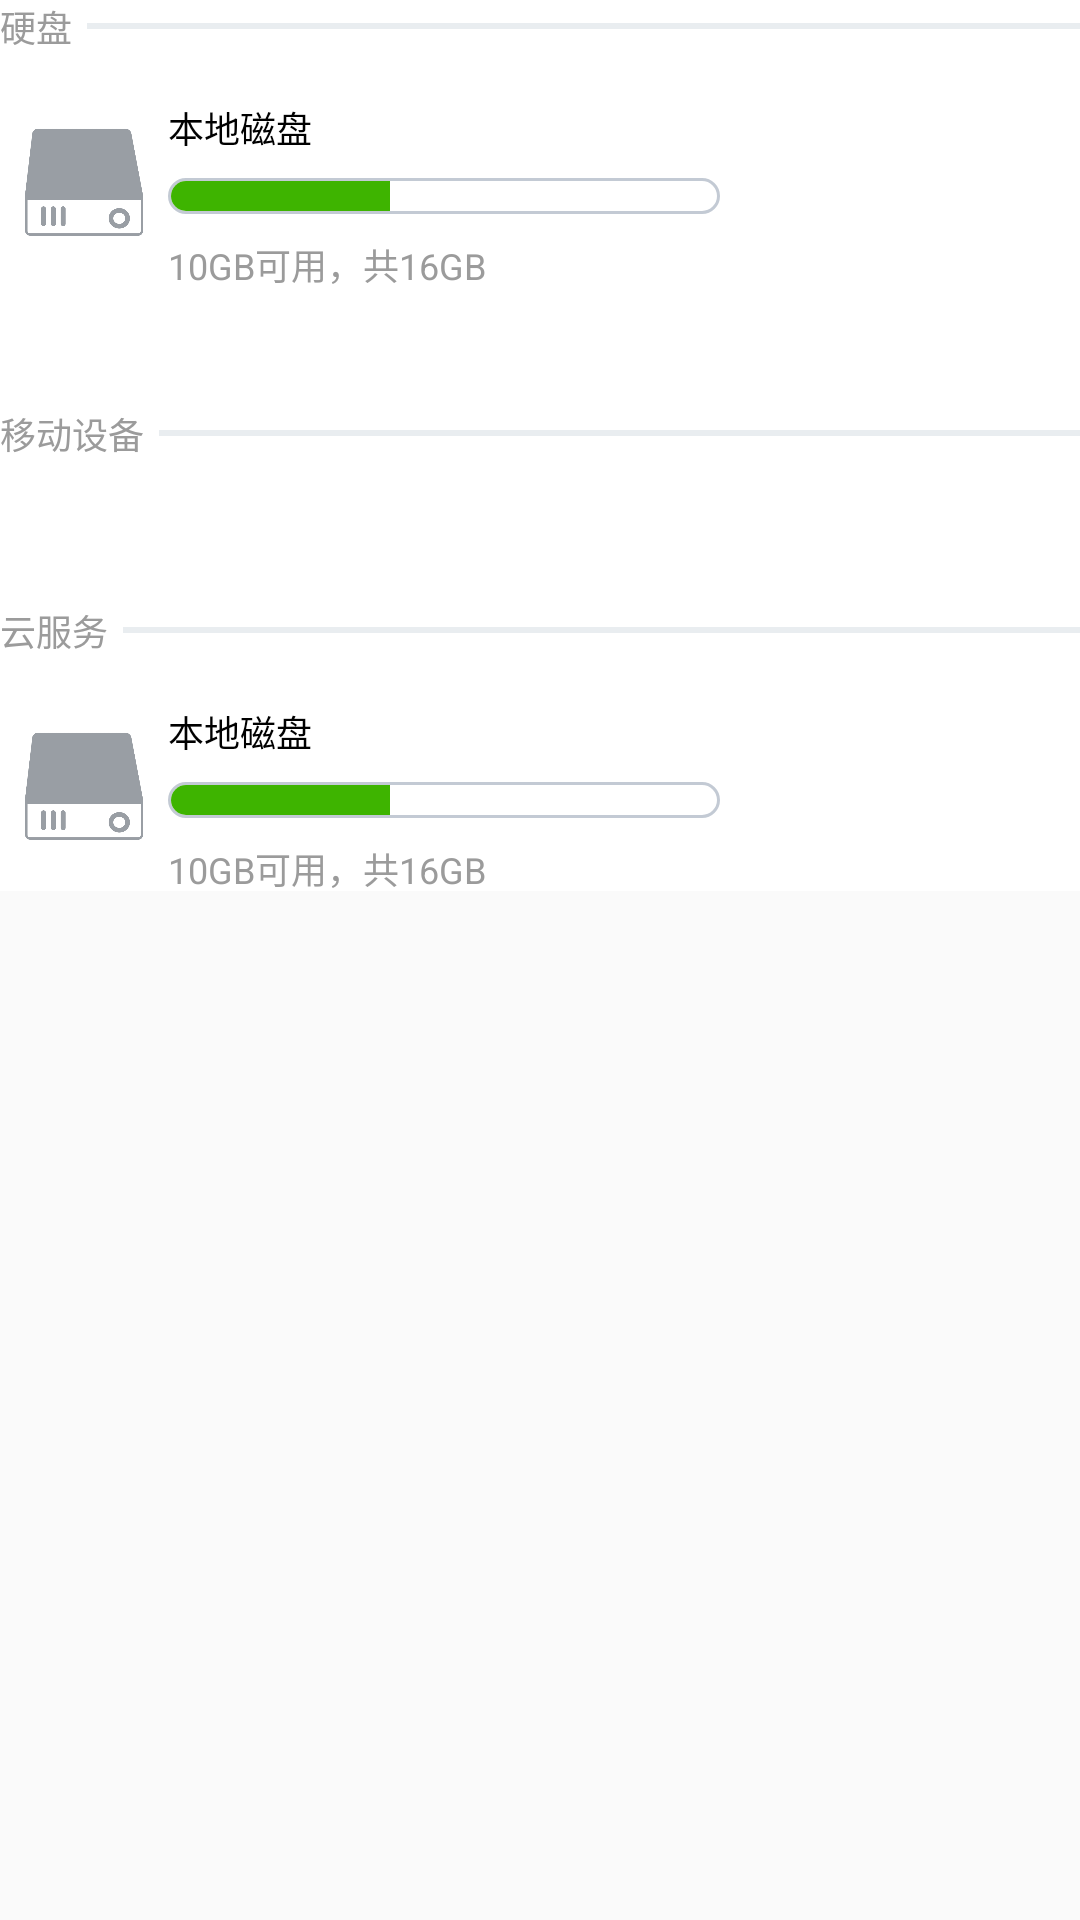

Point at icon controls on the screen. Image size 1080 x 1920, points as point (x, y).
file manager hard disk: point (84, 182), point (84, 786)
